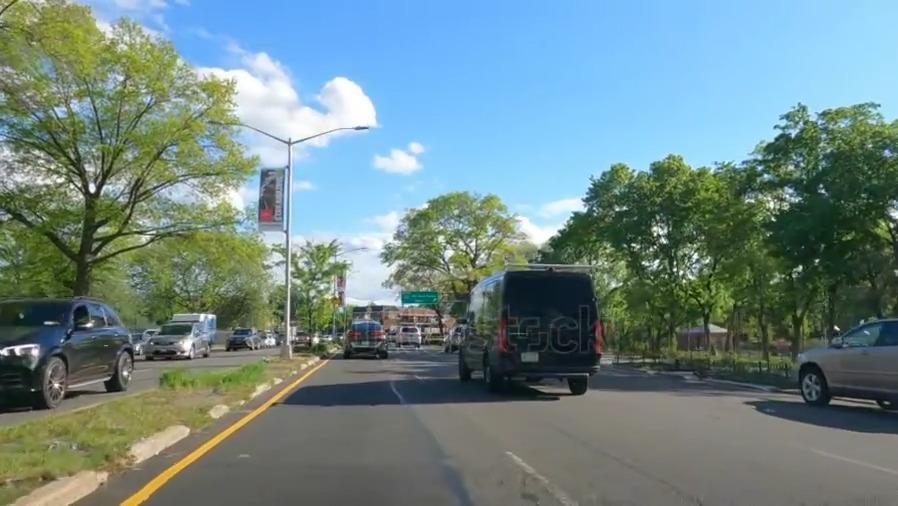car: (0, 303, 141, 403), (783, 319, 898, 418), (141, 323, 211, 358), (341, 320, 393, 357), (225, 327, 259, 351), (393, 323, 422, 347)
van: (460, 275, 600, 387)
wheel: (36, 359, 71, 411), (794, 371, 829, 403), (113, 351, 136, 389)
